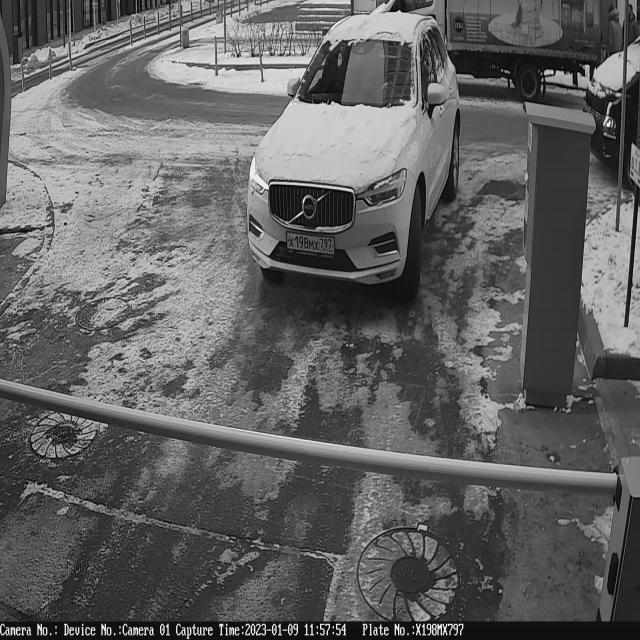car-plate-numbers: (284, 226, 340, 263)
